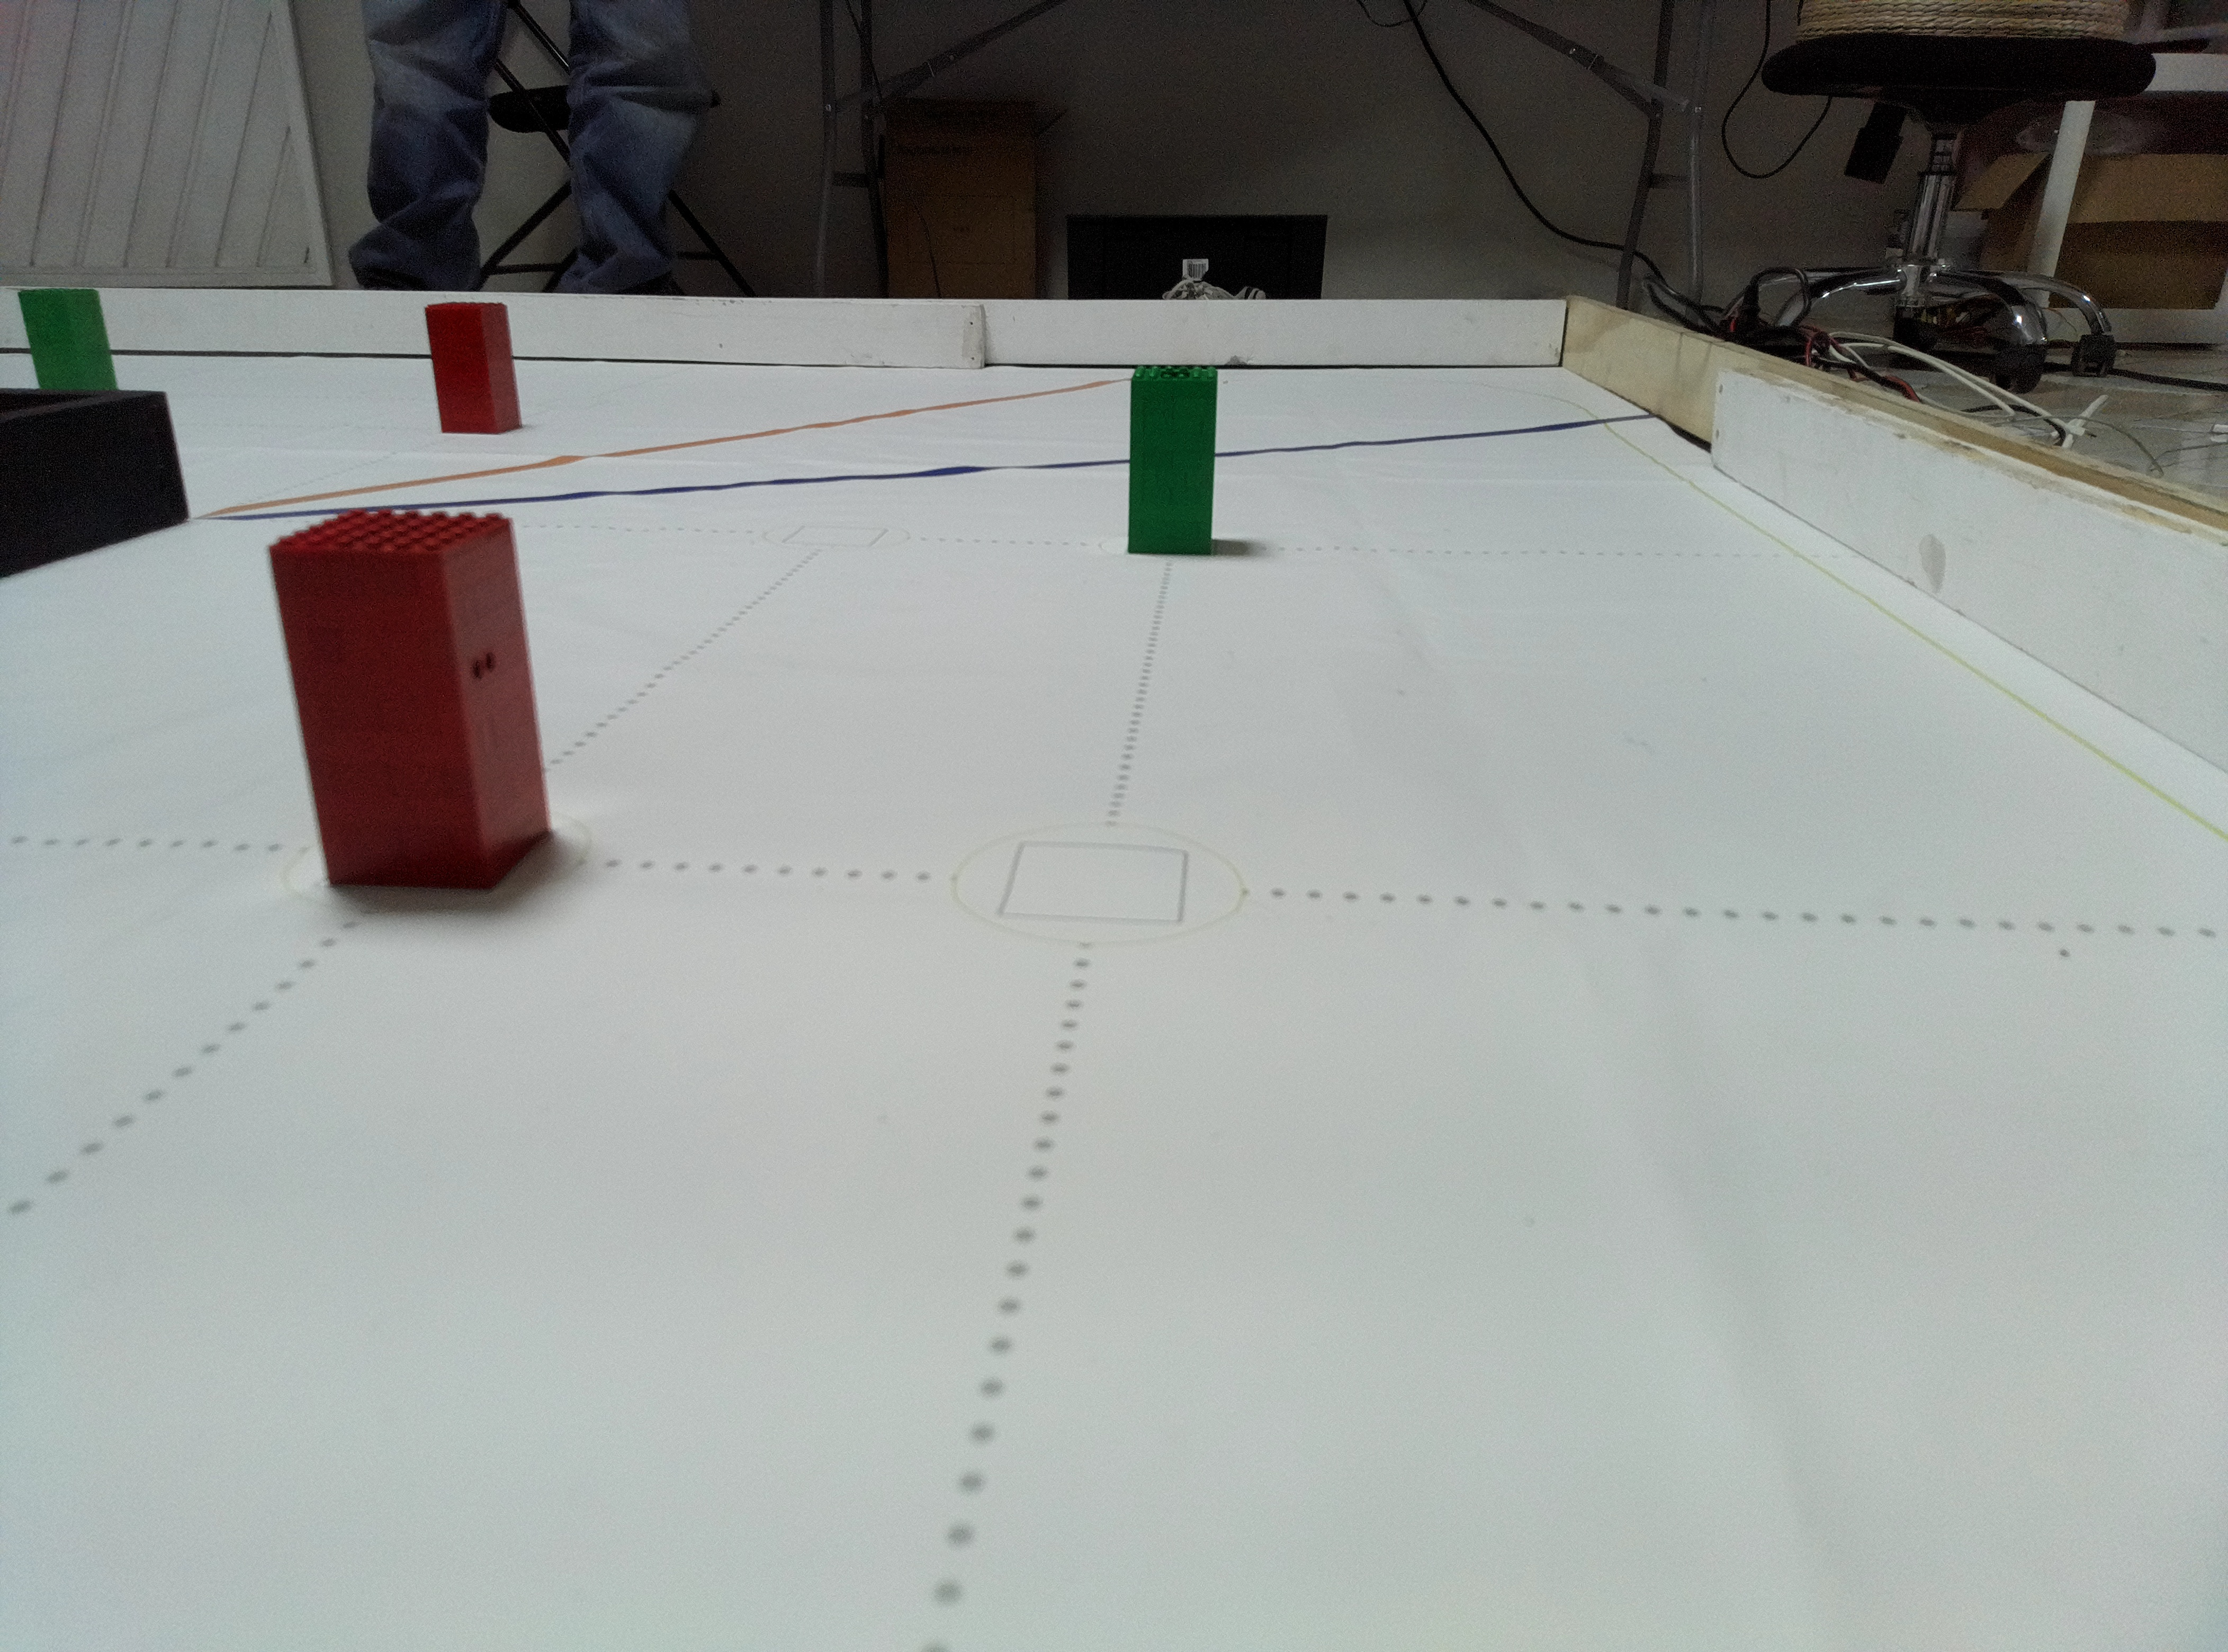greenbox: (1128, 357, 1220, 555), (16, 283, 132, 394)
redbox: (269, 500, 557, 906), (420, 297, 528, 444)
